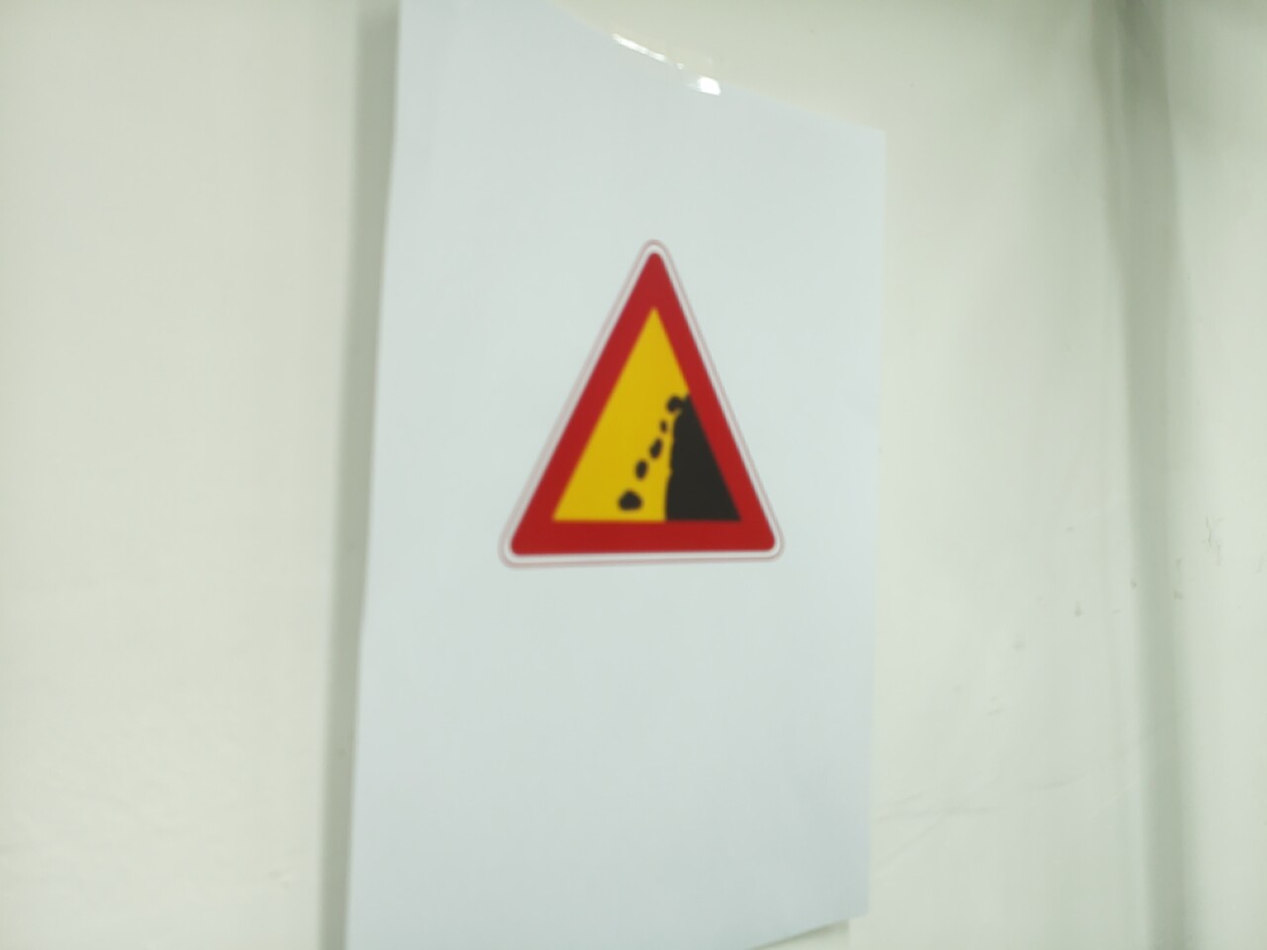falling_rocks: (502, 242, 784, 566)
